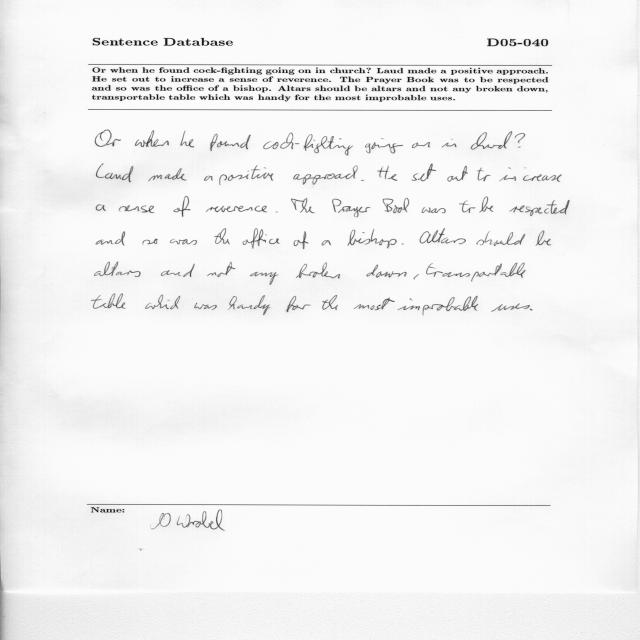word: (263, 133, 353, 156), (426, 263, 526, 282), (398, 296, 478, 316), (293, 165, 358, 185), (220, 165, 274, 185), (509, 200, 570, 216), (347, 229, 397, 248), (500, 167, 562, 182), (228, 295, 271, 315), (242, 228, 280, 249), (471, 131, 512, 150), (296, 262, 340, 279), (420, 229, 466, 245), (477, 231, 526, 246), (97, 164, 134, 183), (210, 134, 251, 151), (95, 262, 141, 277), (332, 199, 370, 217), (135, 130, 169, 147), (365, 139, 403, 154), (145, 295, 181, 310), (366, 265, 407, 278), (92, 294, 126, 309), (149, 168, 187, 181), (354, 298, 395, 310), (95, 130, 121, 147), (161, 264, 195, 277), (96, 231, 125, 246), (206, 206, 267, 213), (411, 164, 436, 181), (207, 262, 235, 277), (286, 296, 311, 312), (383, 198, 409, 213), (173, 196, 191, 217), (250, 272, 279, 285), (291, 198, 315, 213), (491, 303, 530, 312), (447, 166, 468, 182), (377, 166, 397, 181), (119, 205, 154, 213), (214, 228, 230, 245), (294, 231, 309, 249), (536, 230, 552, 246), (322, 295, 338, 310), (180, 131, 194, 147), (480, 197, 494, 213), (459, 201, 476, 213), (477, 168, 491, 181), (170, 239, 197, 245), (194, 303, 217, 310), (515, 133, 525, 148), (421, 207, 446, 213), (442, 139, 457, 147), (412, 142, 430, 148), (142, 239, 158, 245), (96, 204, 106, 211), (322, 240, 332, 246), (204, 176, 213, 181), (413, 274, 419, 280), (530, 309, 532, 311), (361, 180, 364, 181), (275, 212, 278, 213), (402, 244, 404, 245)
